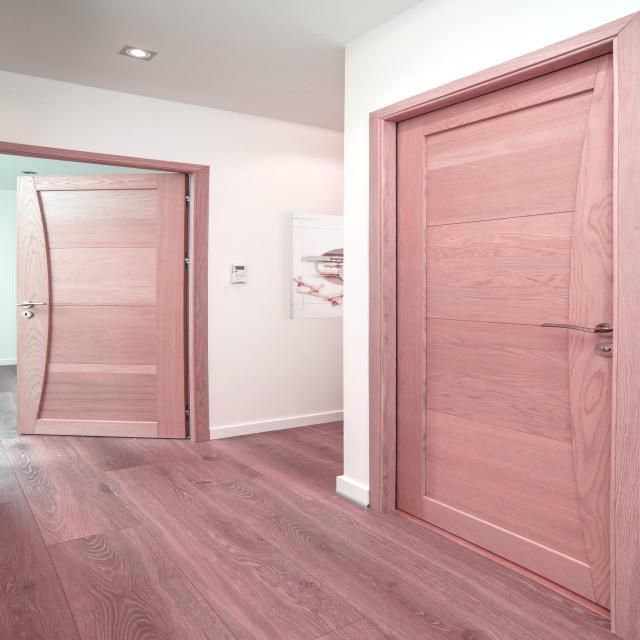door: (346, 10, 637, 640), (1, 135, 219, 449)
